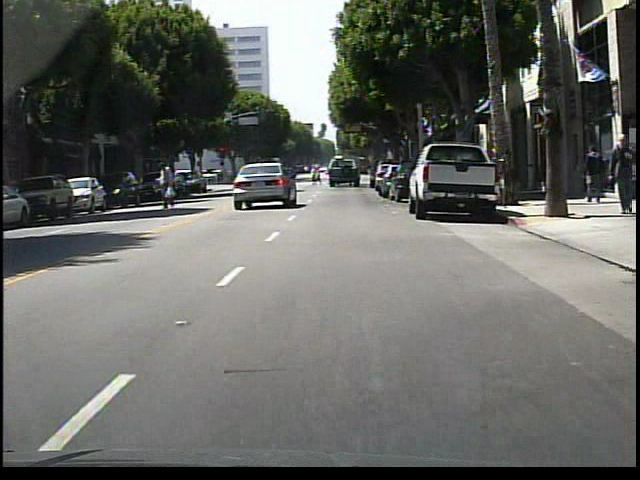person: (607, 133, 635, 214), (580, 142, 606, 203), (159, 158, 178, 209), (311, 166, 323, 187)
